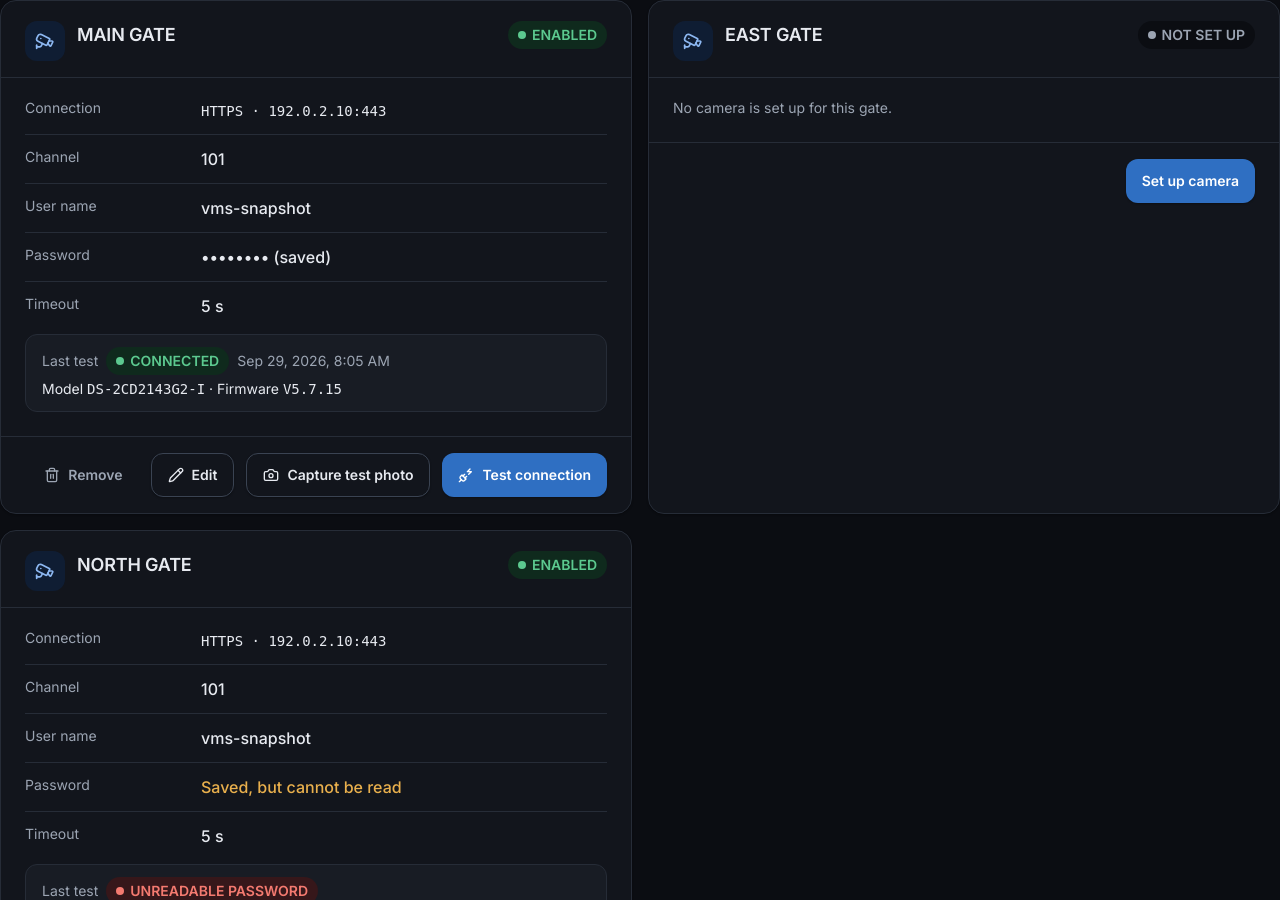
it: GateCamerasManager: saving › shows validation problems per field without echoing the values
The image size is (1280, 900).
Expected: the heading "East Gate" is shown, [725, 21, 822, 49]
Click the button "Set up camera" at (1190, 181), box [1126, 159, 1255, 203]
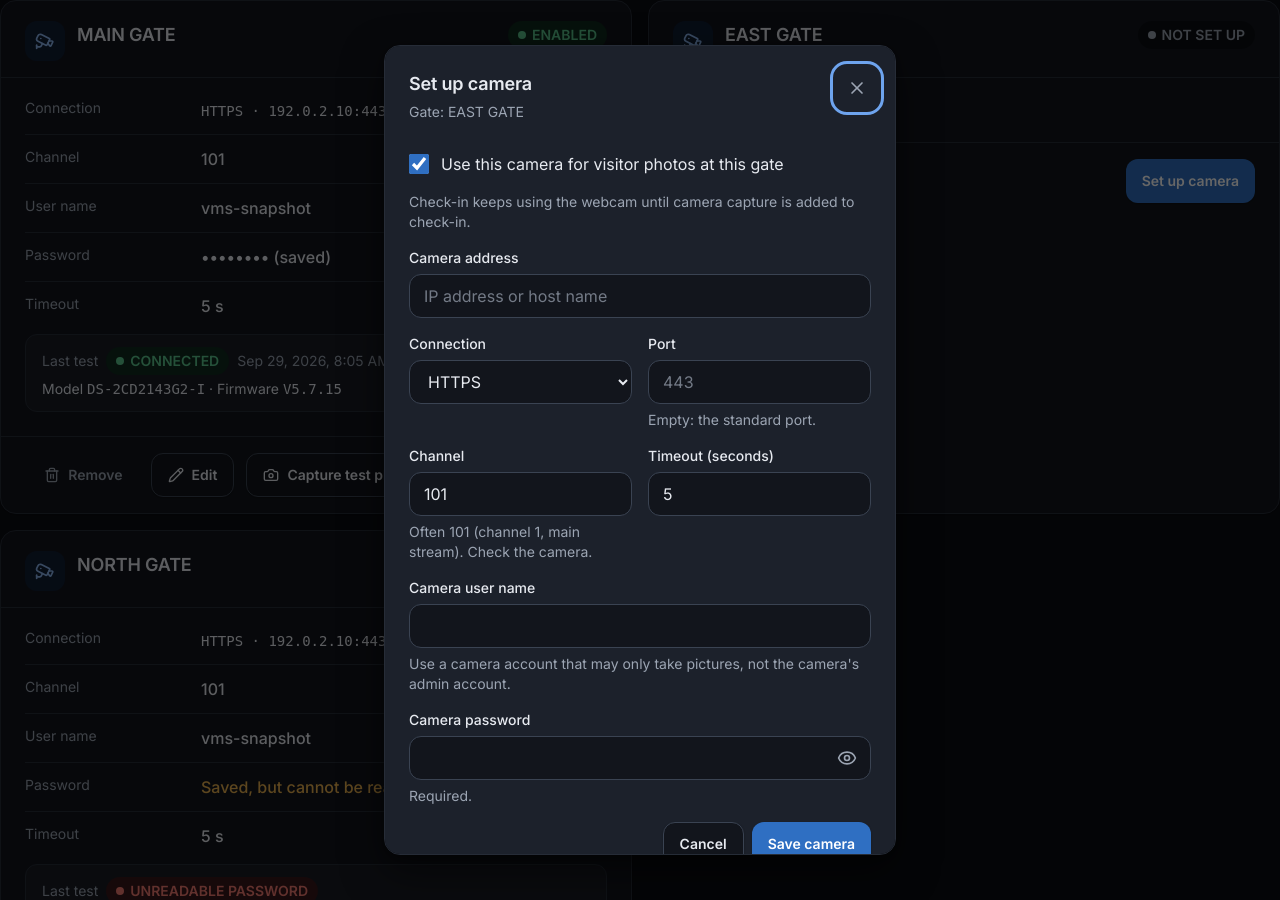
Type "192.0.2.20" into the field labelled "Camera address" at (640, 296), box [409, 274, 871, 318]
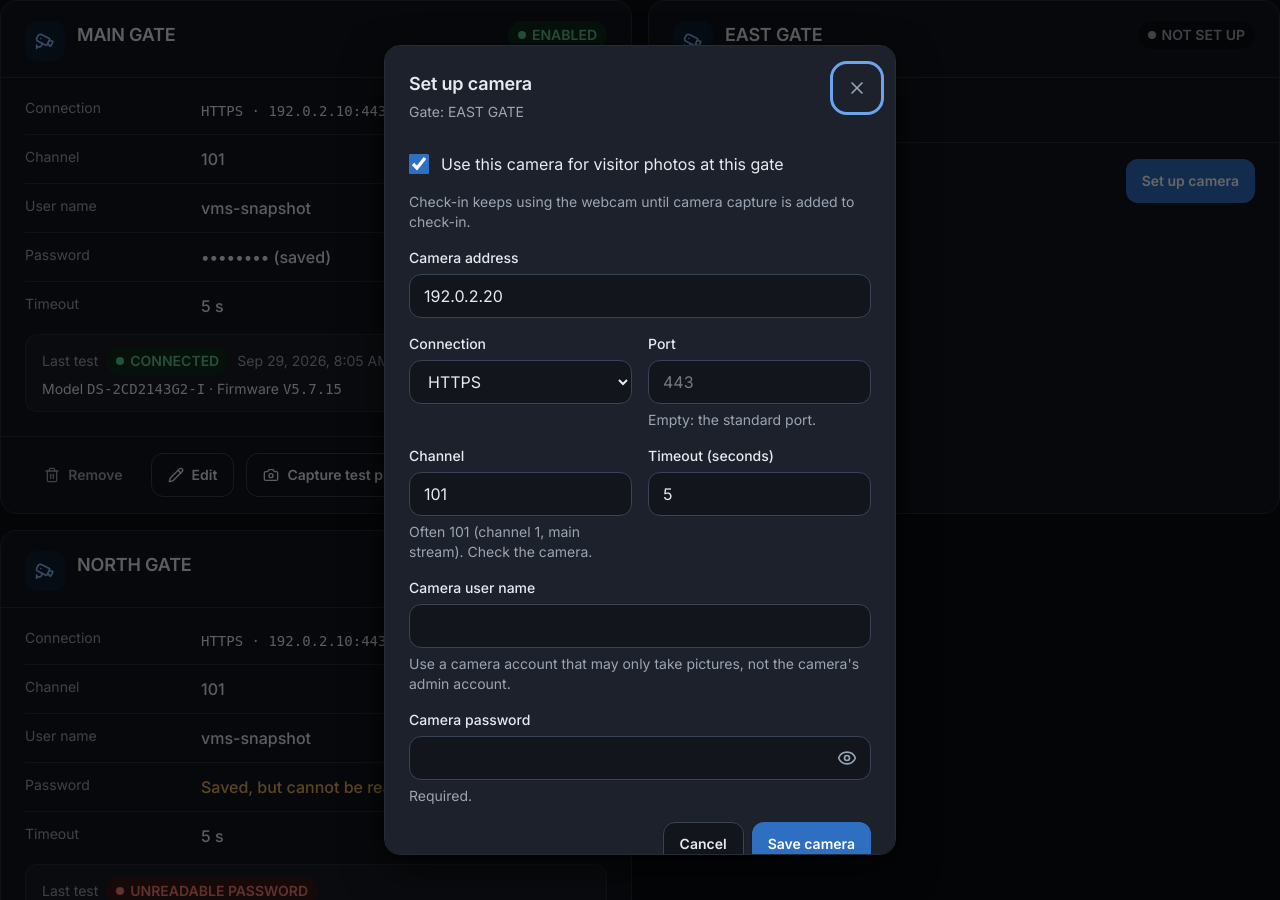
Type "vms" into the field labelled "Camera user name" at (640, 626), box [409, 604, 871, 648]
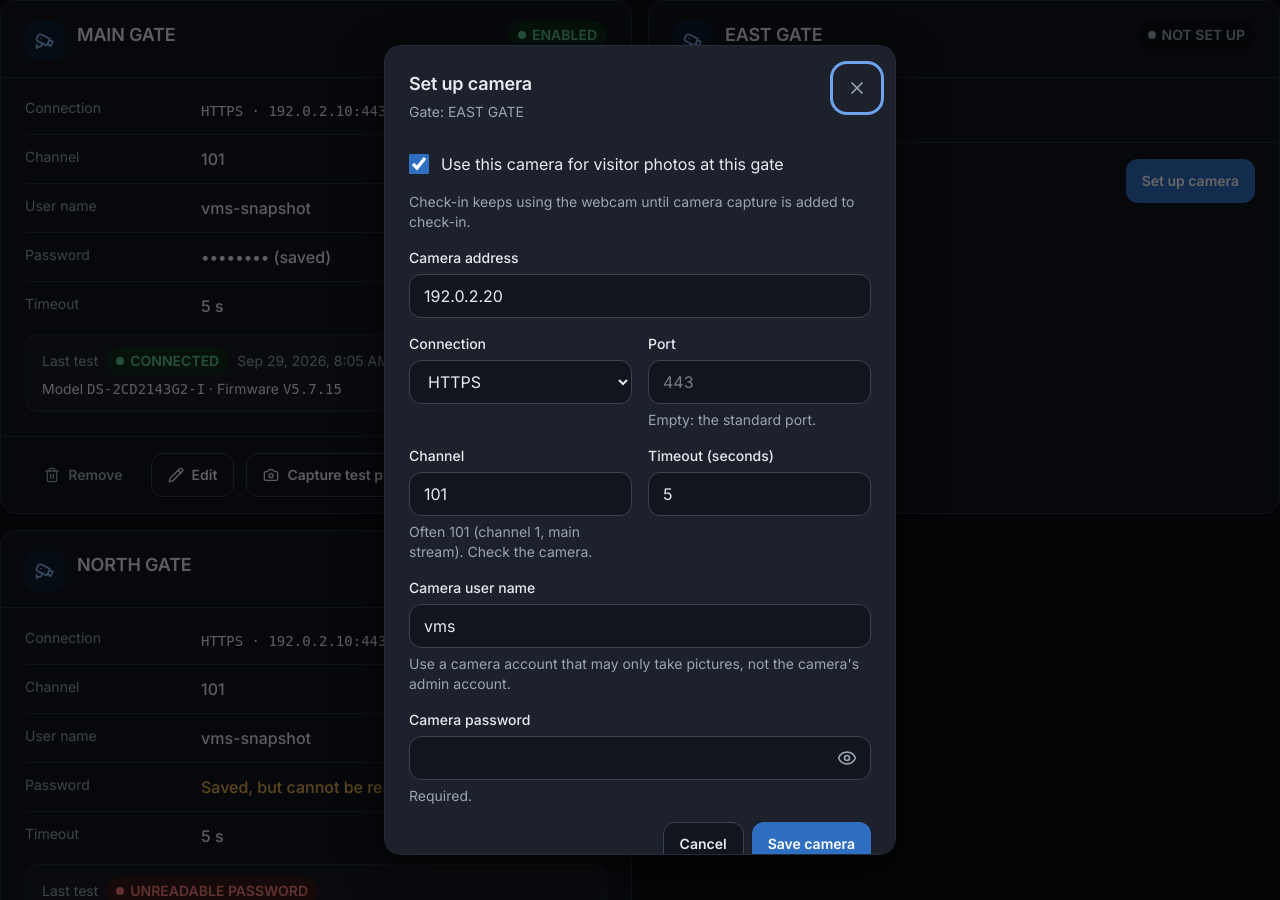
Type "Sup3r-Secret-Cam!" into the password field labelled "Camera password" at (640, 758), box [409, 736, 871, 780]
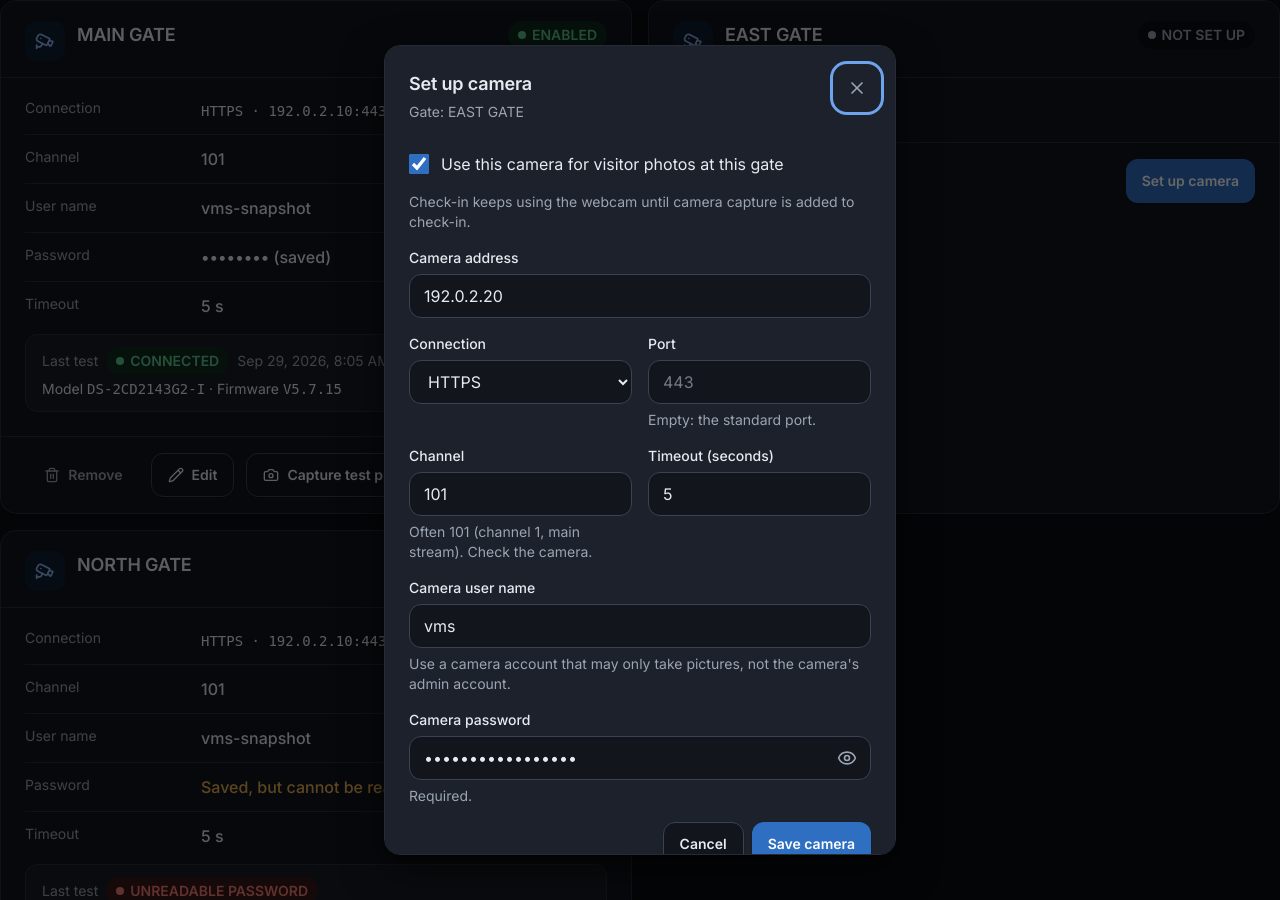
Submit the form named "Camera address", box [409, 142, 871, 866]
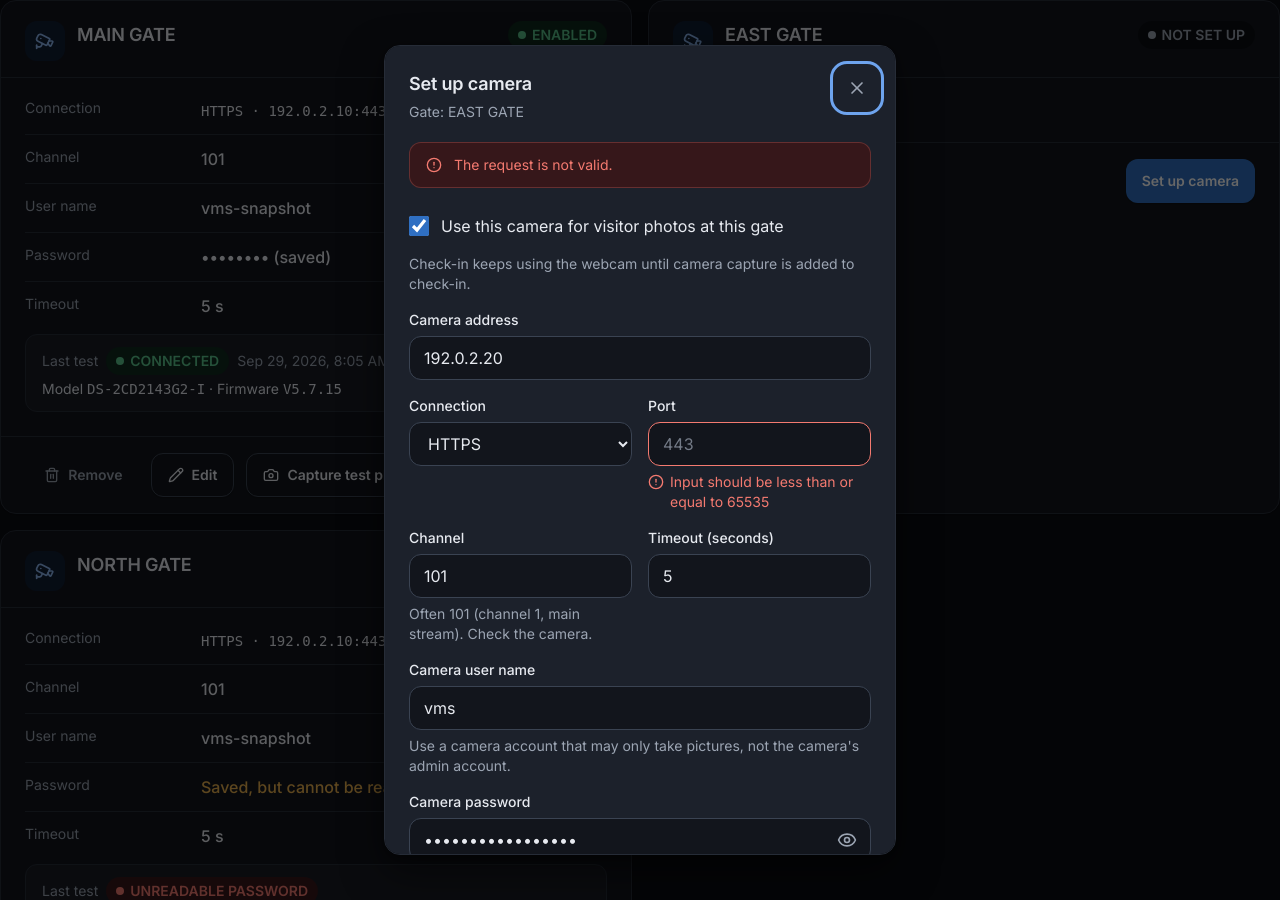
Now the text "Input should be less than or equal to 65535" is shown, box [670, 472, 871, 512]
